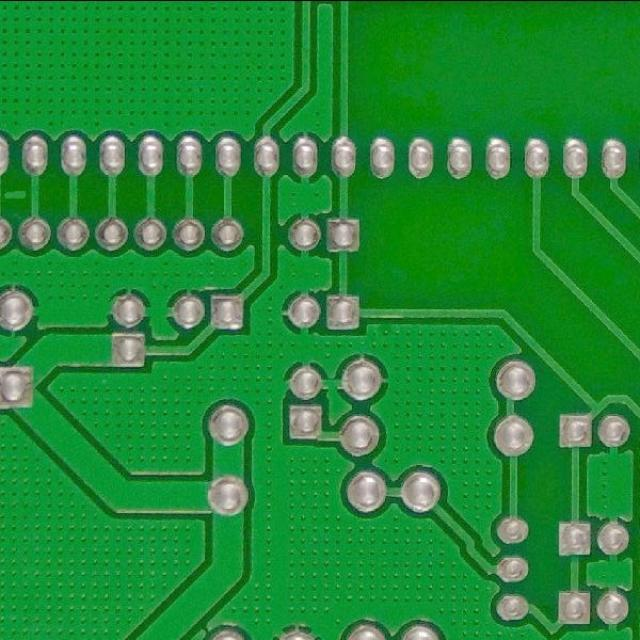Spurious_Cooper: (0, 183, 31, 205)
